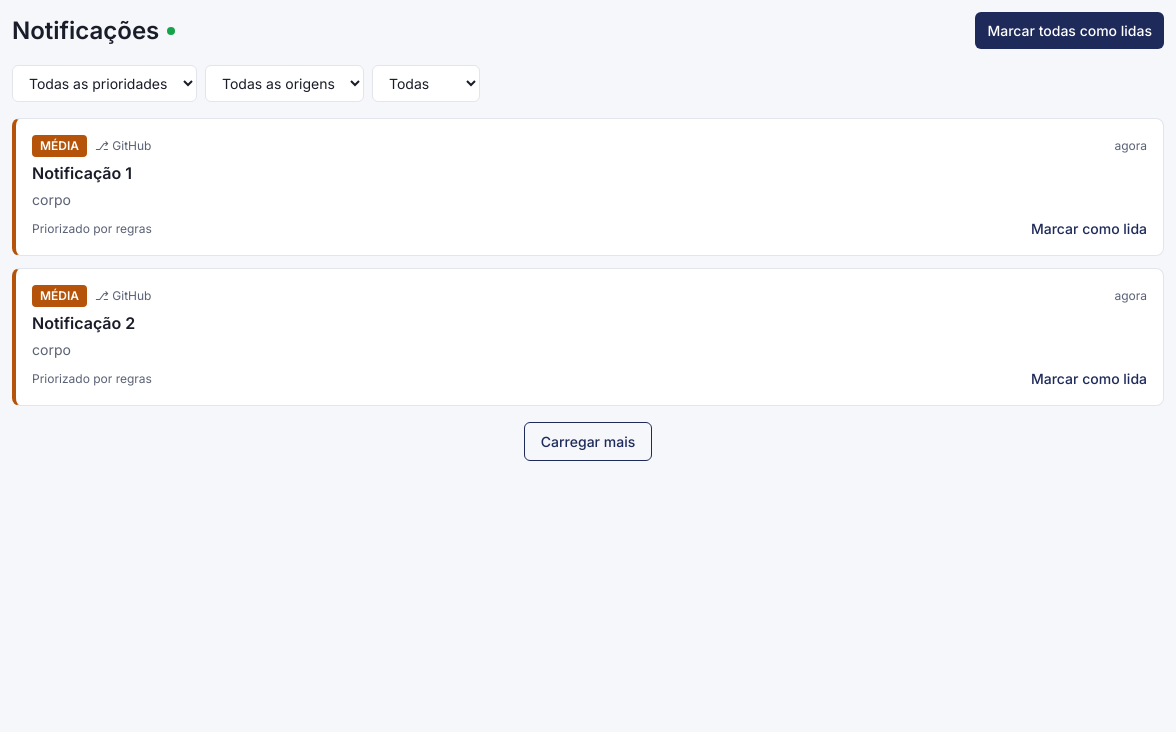
Test: NotificationsPage — paginação › marcar todas como lidas também preserva as páginas carregadas
Check: the heading "Notificação 1" is shown, box [32,163,132,183]
Click the button "Carregar mais" at (588, 442), box [524,422,652,461]
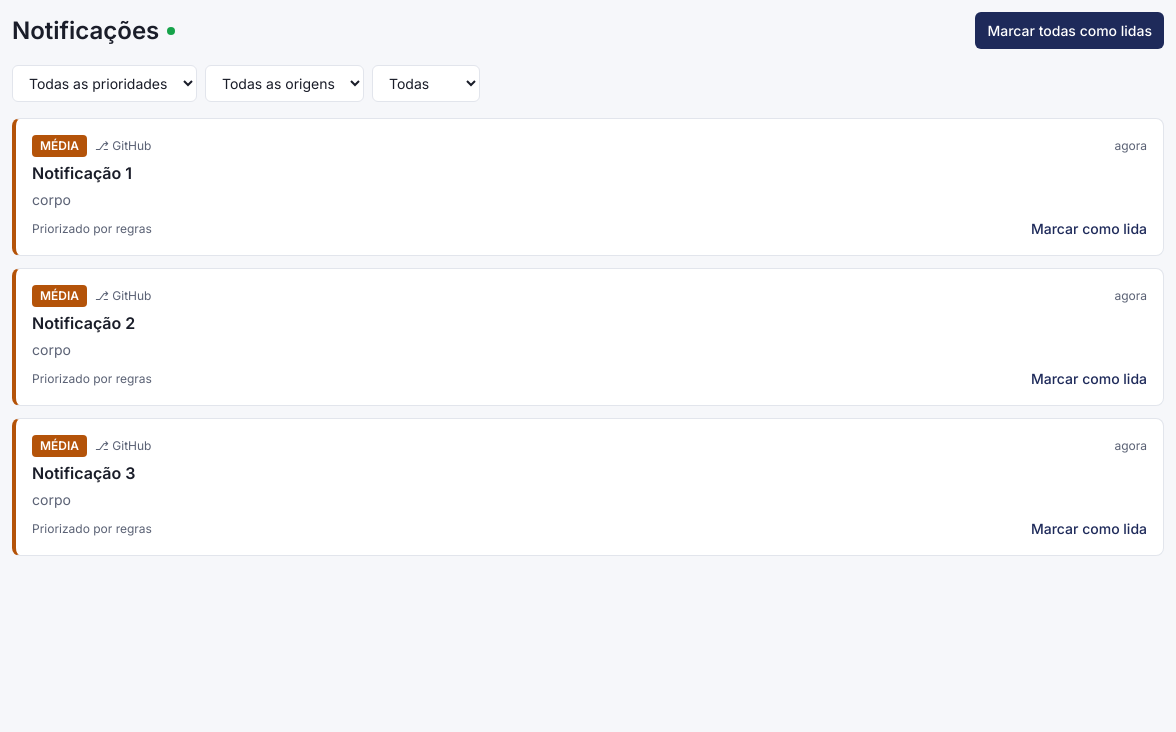
Check: the heading "Notificação 3" is shown, box [32,463,136,483]
Click the button "Marcar todas como lidas" at (1070, 30), box [976,12,1164,49]
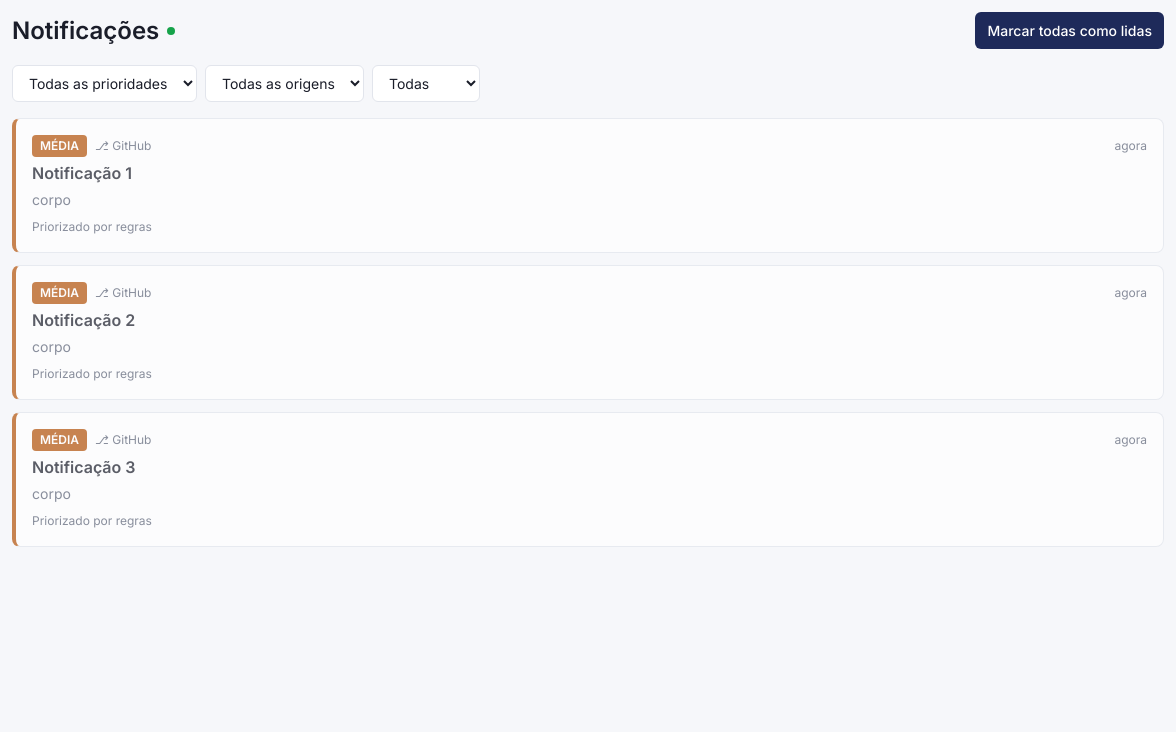
Check: the number of elements with test id "notification-card" is 3, box [12,118,1164,253]; [12,265,1164,400]; [12,412,1164,547]
Check: no buttons "Marcar como lida" are shown
